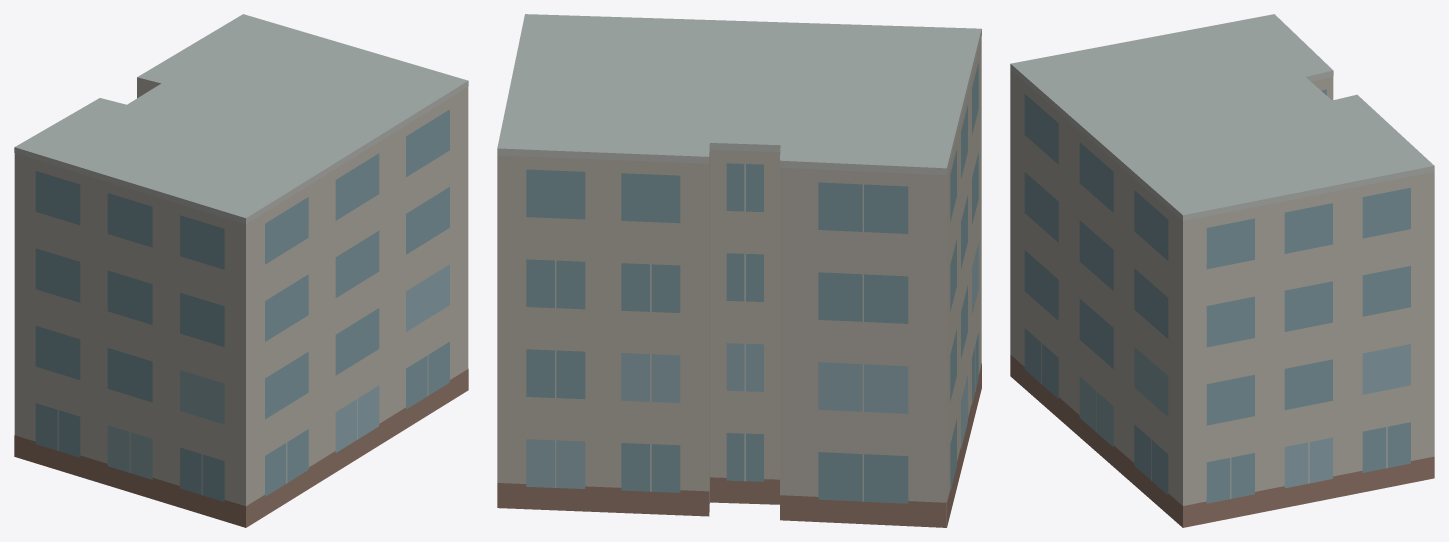
Rendered from survey-upis-32748913.glb.
The picture shows the model from 3 angles, left to right: view 1: azimuth 30°, elevation 25°; view 2: azimuth 150°, elevation 25°; view 3: azimuth 270°, elevation 25°; orthographic projection. The views are drawn at different scales.
Parts seen in each view (by area): view 1: survey-upis-32748913.tmp; view 2: survey-upis-32748913.tmp; view 3: survey-upis-32748913.tmp.
Part boxes in pixels (box(x1,y1,x2,y2)): survey-upis-32748913.tmp: box(14, 14, 468, 527); survey-upis-32748913.tmp: box(497, 14, 981, 527); survey-upis-32748913.tmp: box(1010, 14, 1434, 527).
Size of the model in its own units: 17.55 by 12.7 by 15.62.
